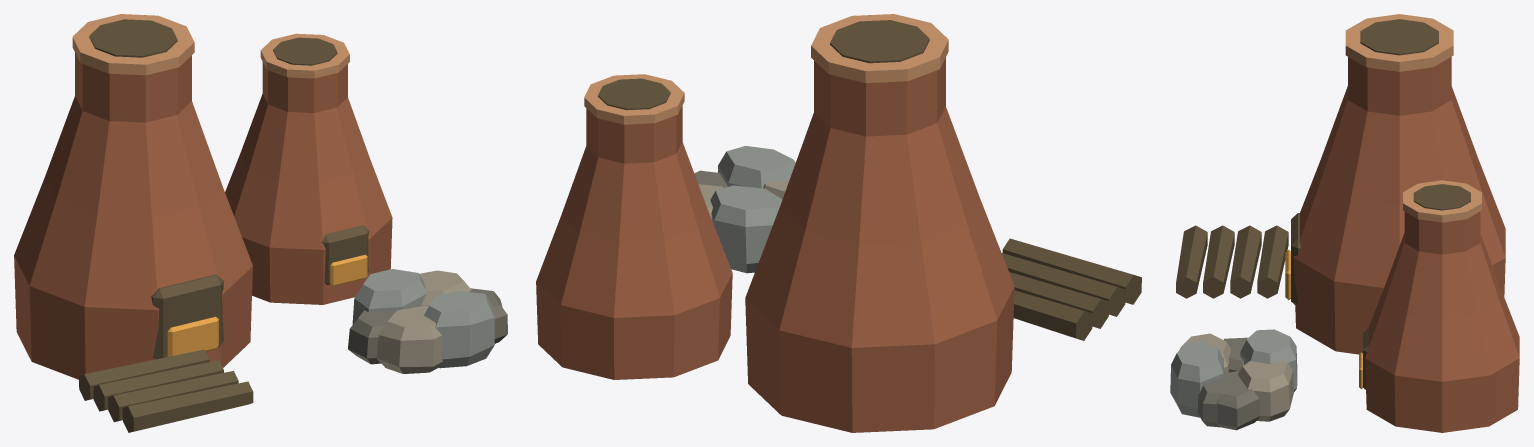
Rendered from smelter.glb.
3 views of the same model, side by side, from view 1: azimuth 30°, elevation 25°; view 2: azimuth 150°, elevation 25°; view 3: azimuth 270°, elevation 25° (orthographic). The views are drawn at different scales.
Visible parts, largest first — view 1: smelter; view 2: smelter; view 3: smelter.
Part boxes in pixels (x1,y1,x2,y2): smelter: (14,14,507,432); smelter: (536,14,1141,432); smelter: (1170,14,1519,432).
Size of the model in its own units: 0.8932 by 0.646 by 0.7371.
